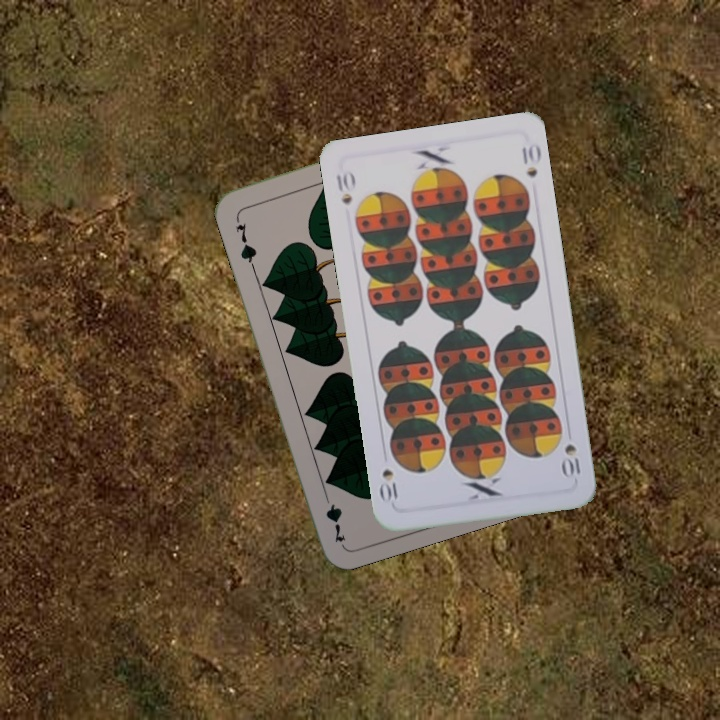G7: (231, 219, 260, 269)
S10: (558, 440, 583, 481), (332, 168, 358, 207)
